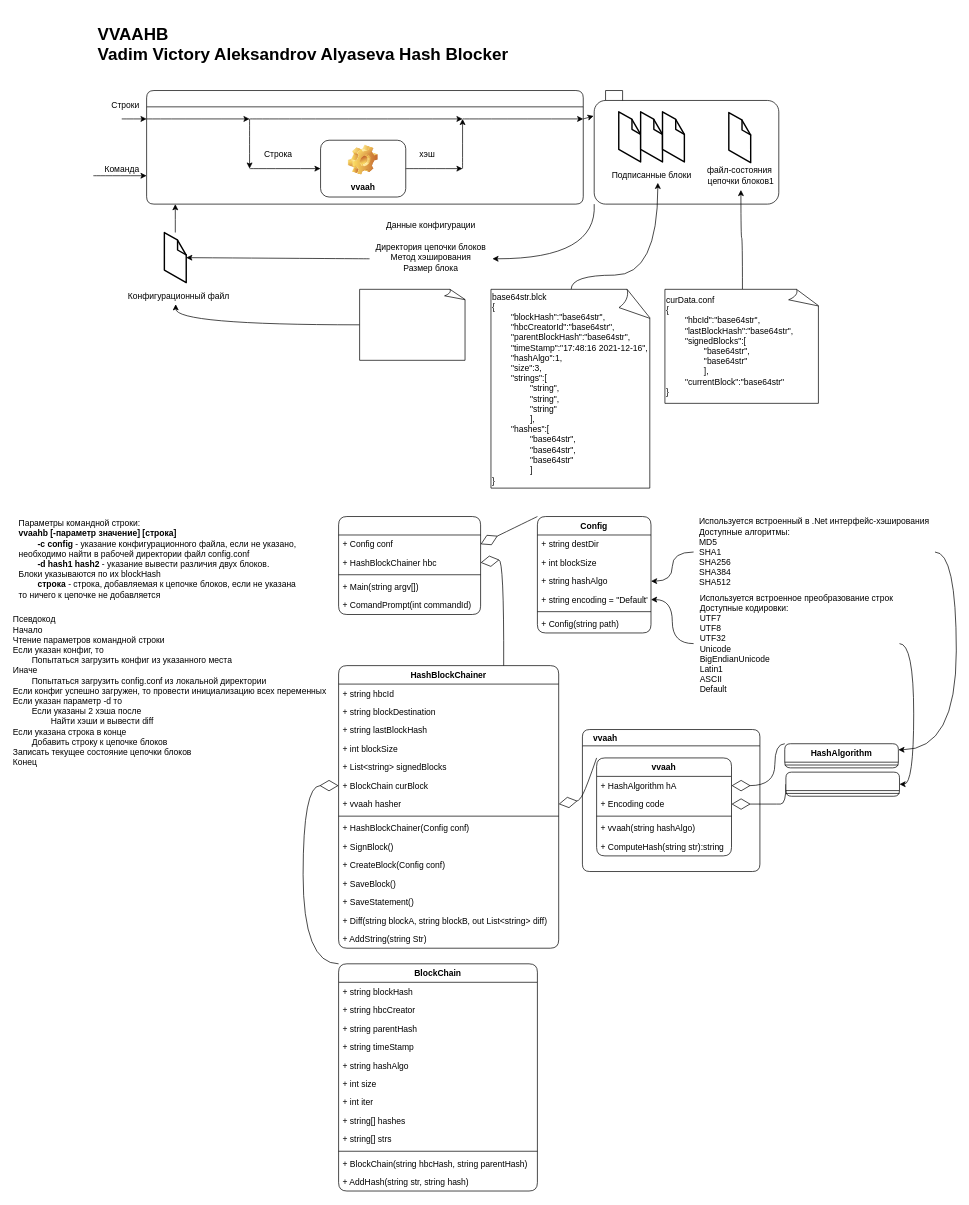
This 969x1205 diagram has some shape labels left out. The box of each missing label's shape, as (x1, y1, x2, y2) in pixels:
config.conf { "destDir":"/...", "blockSize":3, "hashAlgo":1, "encoding":1 }: (359, 289, 466, 360)
Encoding: (785, 771, 899, 796)
Programm: (338, 516, 481, 615)
vvaahb: (146, 90, 583, 204)
